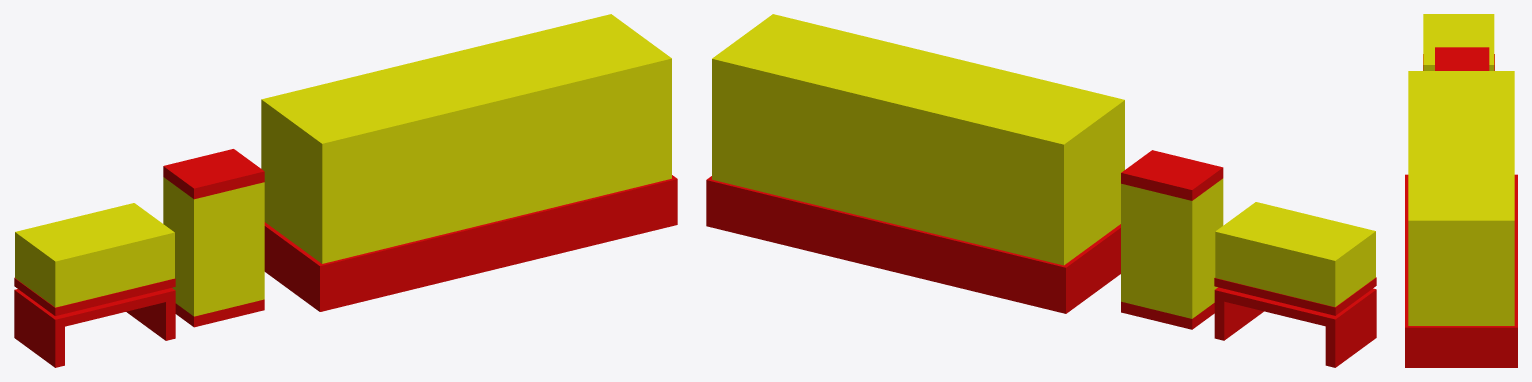
Rendered from disp_LP.fbx.
The picture shows the model from 3 angles, left to right: view 1: azimuth 30°, elevation 25°; view 2: azimuth 150°, elevation 25°; view 3: azimuth 270°, elevation 25°; orthographic projection. The views are drawn at different scales.
Visible parts, largest first — view 1: glass3_LP, case3_LP, glass1_LP, glass2_LP, case1_LP, case2_LP; view 2: glass3_LP, case3_LP, glass1_LP, glass2_LP, case1_LP, case2_LP; view 3: glass3_LP, case3_LP, glass1_LP, case2_LP.
Part boxes in pixels (box(x1,y1,x2,y2)): glass3_LP: box(261, 14, 671, 263); case3_LP: box(264, 175, 677, 311); glass1_LP: box(15, 203, 174, 307); glass2_LP: box(163, 177, 264, 316); case1_LP: box(14, 277, 175, 367); case2_LP: box(163, 149, 264, 327); glass3_LP: box(712, 14, 1124, 265); case3_LP: box(706, 176, 1120, 313); glass1_LP: box(1215, 202, 1375, 306); glass2_LP: box(1121, 178, 1223, 318); case1_LP: box(1214, 277, 1376, 367); case2_LP: box(1121, 150, 1223, 329); glass3_LP: box(1408, 71, 1514, 325); case3_LP: box(1405, 174, 1517, 367); glass1_LP: box(1423, 14, 1494, 70); case2_LP: box(1435, 47, 1489, 70).
Bounding box in the file's own units: 11.15 × 2.91 × 2.03.
